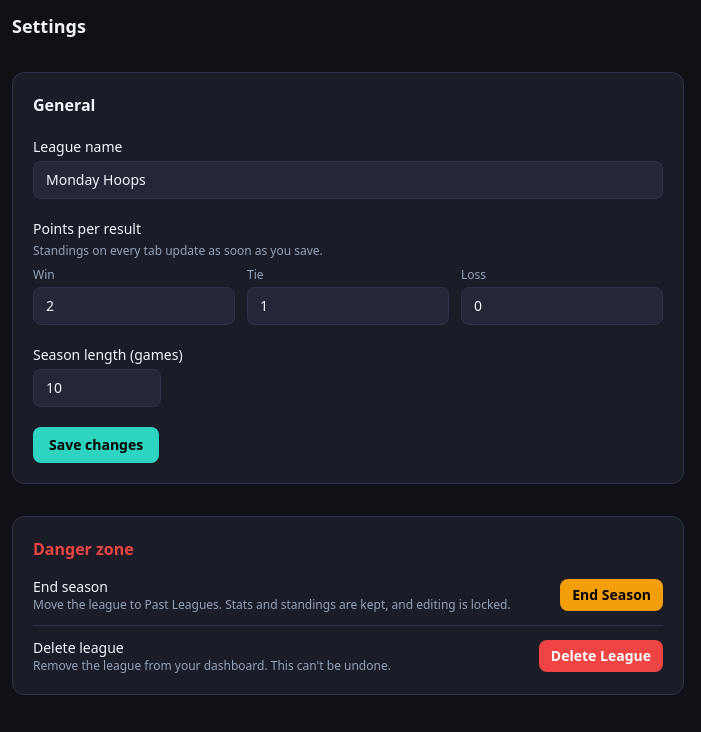
Test case: SettingsPage › shows a validation error without writing
Clear the field labelled "League name" at (348, 180), box [33, 161, 663, 199]
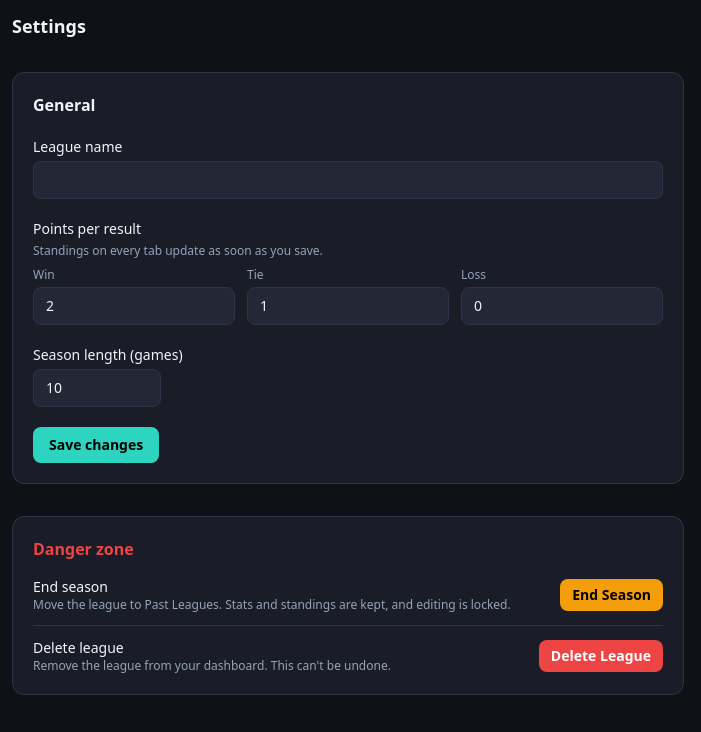
Click the button "Save changes" at (96, 445), box [33, 427, 159, 463]
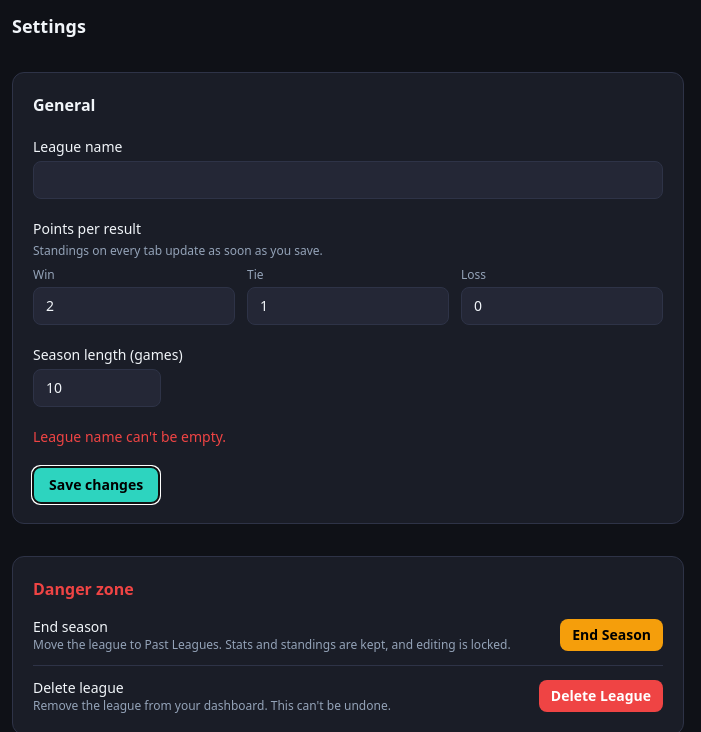
Expected: the message shows "name", [33, 427, 226, 446]
